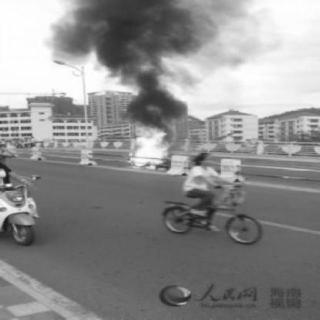Fire: (128, 105, 176, 177)
Smoke: (58, 4, 245, 112)
